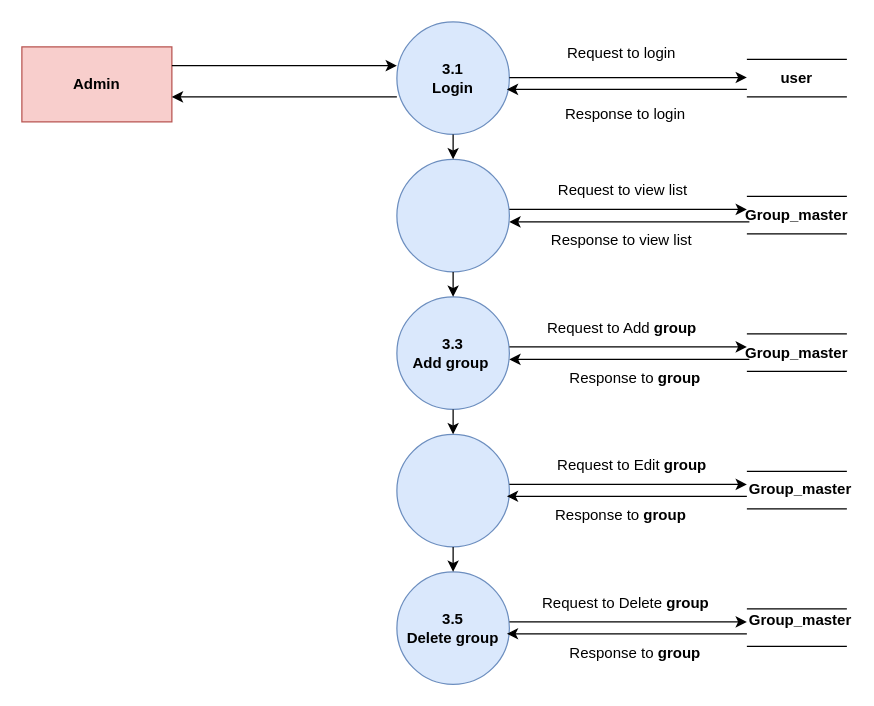
Image size: 874x706. Some labels were removed from this diagram. Each missing label, with the centre of its shape:
"3.2 View group List" goes at (x=452, y=215).
"3.4 Edit group" goes at (x=452, y=490).
